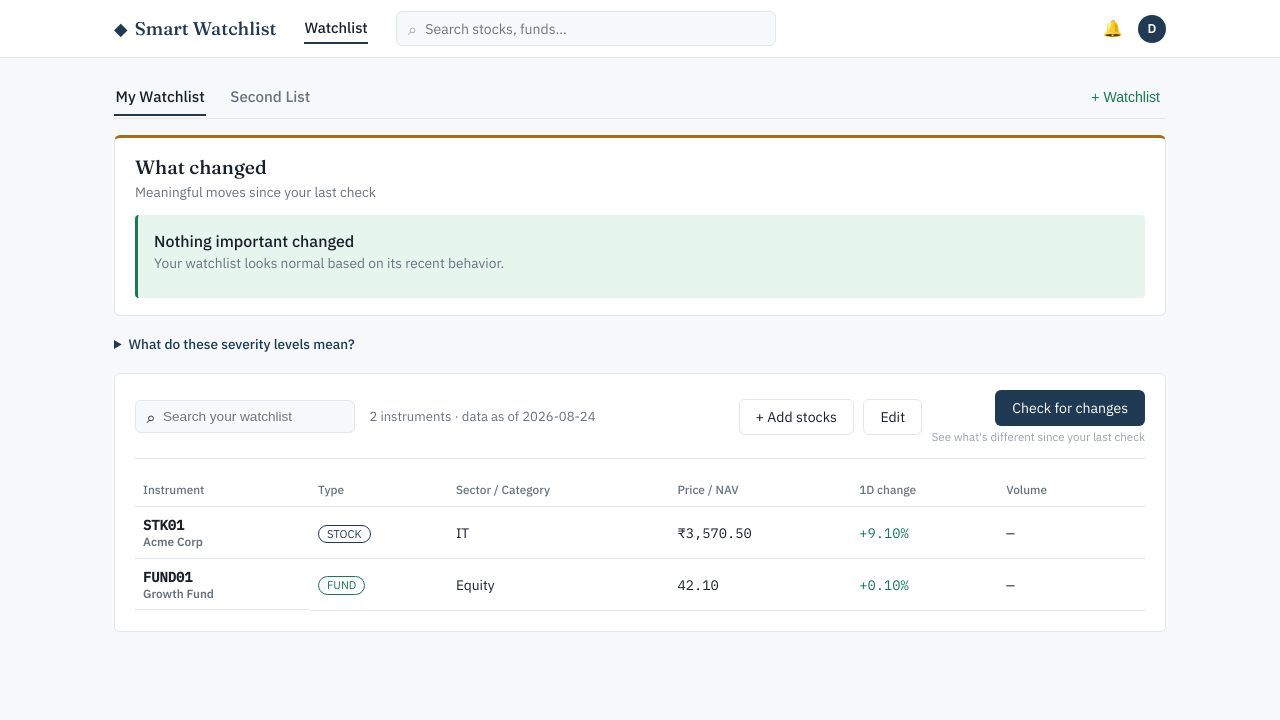
Test: App — core user journey › deletes the active watchlist and switches to another one when more than one exists
Expected: the text "STK01" is shown, x1=143 y1=516 x2=184 y2=534
Click the button "Edit".
click(893, 417)  # box x1=863 y1=399 x2=922 y2=435
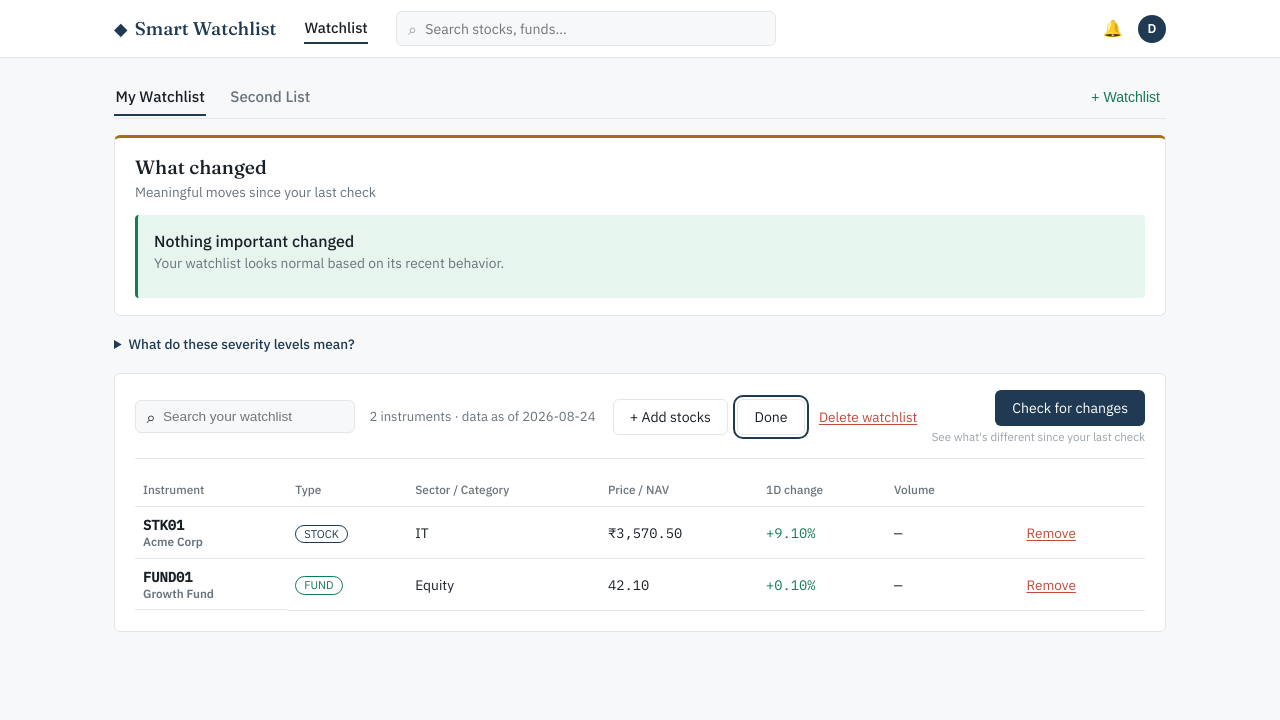
Click the button "Delete watchlist".
click(868, 417)  # box x1=814 y1=405 x2=922 y2=428
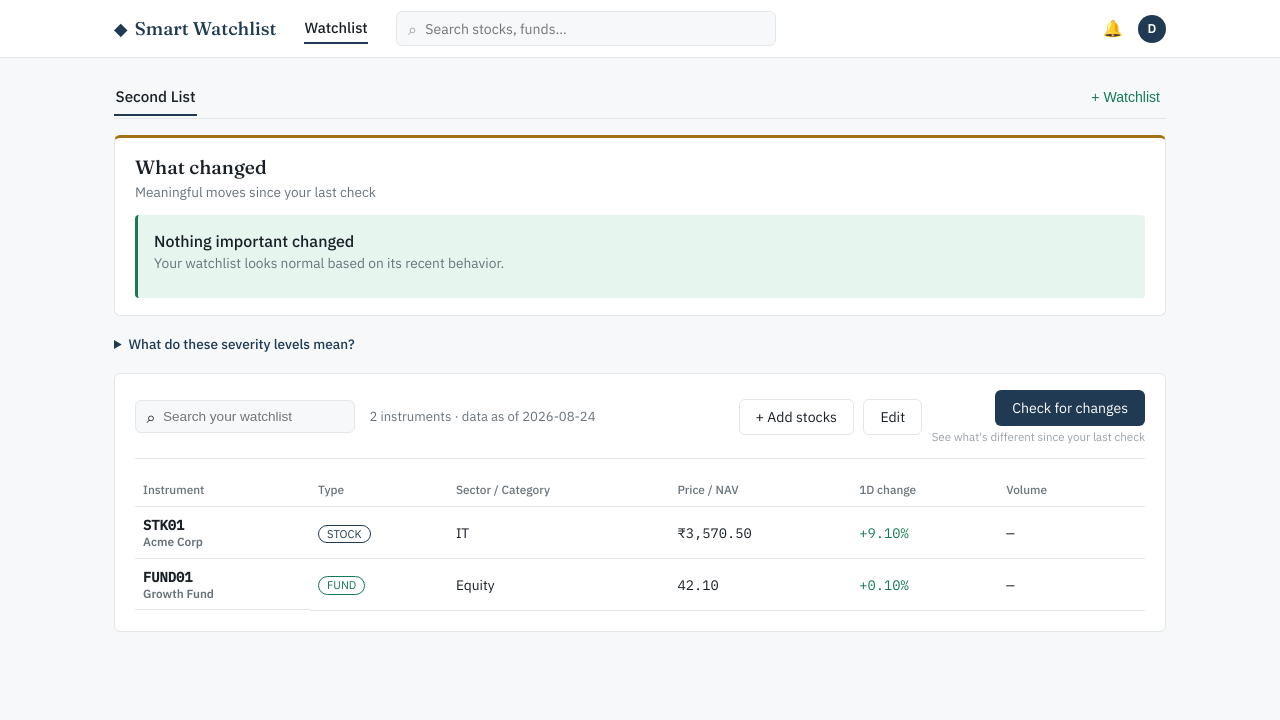
Expected: the tab "Second List" is shown, x1=114 y1=78 x2=197 y2=116
Expected: the tab "My Watchlist" is gone
